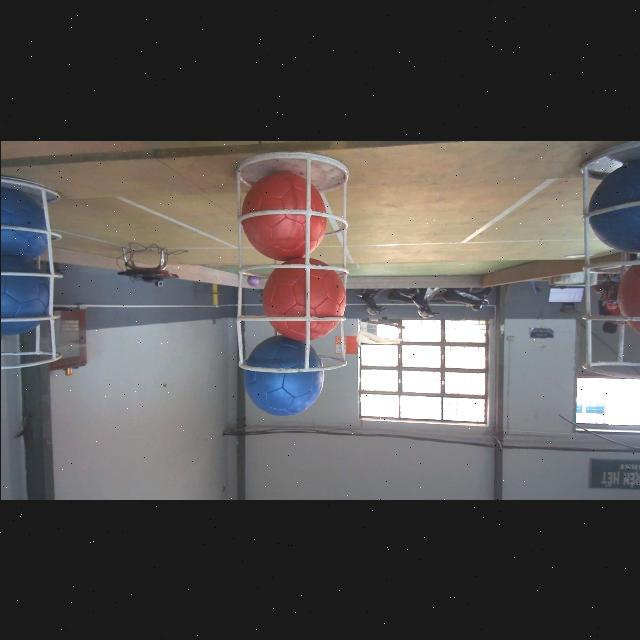B: (242, 335, 322, 419), (586, 156, 640, 252), (0, 185, 56, 255), (1, 258, 52, 334)
R: (243, 167, 327, 263), (264, 256, 348, 336)
